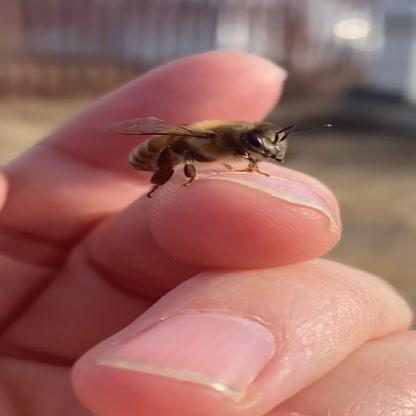bee: (101, 97, 346, 190)
